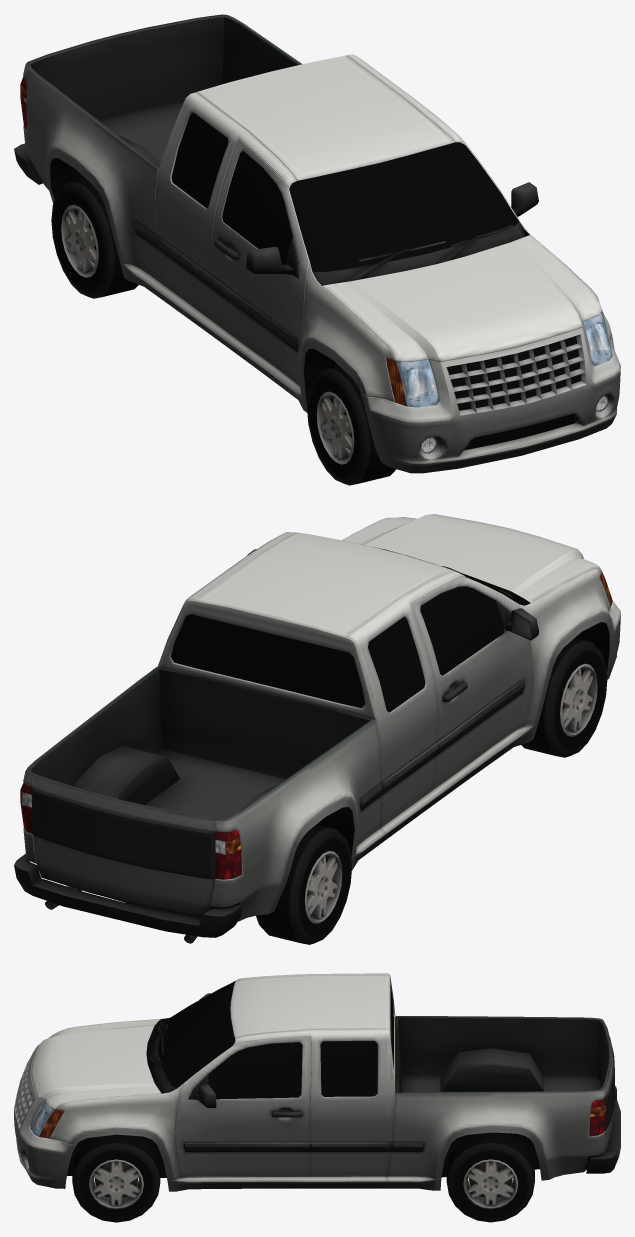
The model's file is pickup_white.glb.
3 renders of one model, top to bottom at view 1: azimuth 30°, elevation 25°; view 2: azimuth 150°, elevation 25°; view 3: azimuth 270°, elevation 25°, orthographic. The views are drawn at different scales.
Parts seen in each view (by area): view 1: pickup body, Front Right Wheel, Rear Right Wheel; view 2: pickup body, Rear Right Wheel, Front Right Wheel; view 3: pickup body, Rear Left Wheel, Front Left Wheel.
Part boxes in pixels (left/top/right/bottom): pickup body: left=14, top=14, right=620, bottom=473; Front Right Wheel: left=307, top=366, right=396, bottom=485; Rear Right Wheel: left=51, top=178, right=138, bottom=298; pickup body: left=14, top=514, right=620, bottom=943; Rear Right Wheel: left=256, top=824, right=351, bottom=944; Front Right Wheel: left=521, top=638, right=607, bottom=757; pickup body: left=14, top=973, right=620, bottom=1191; Rear Left Wheel: left=446, top=1132, right=534, bottom=1222; Front Left Wheel: left=72, top=1134, right=160, bottom=1222.
Bounding box in the file's own units: 2.07 × 1.7 × 5.18.
Materials: 1 (1 with a texture image).
